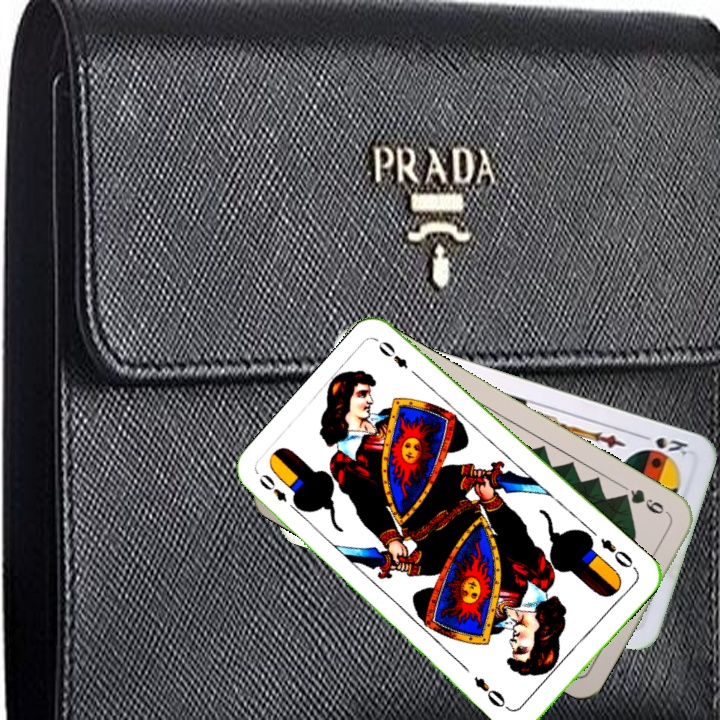EO: (596, 534, 640, 574), (254, 470, 290, 505)
G9: (615, 485, 673, 520)
SK: (635, 430, 691, 460)
